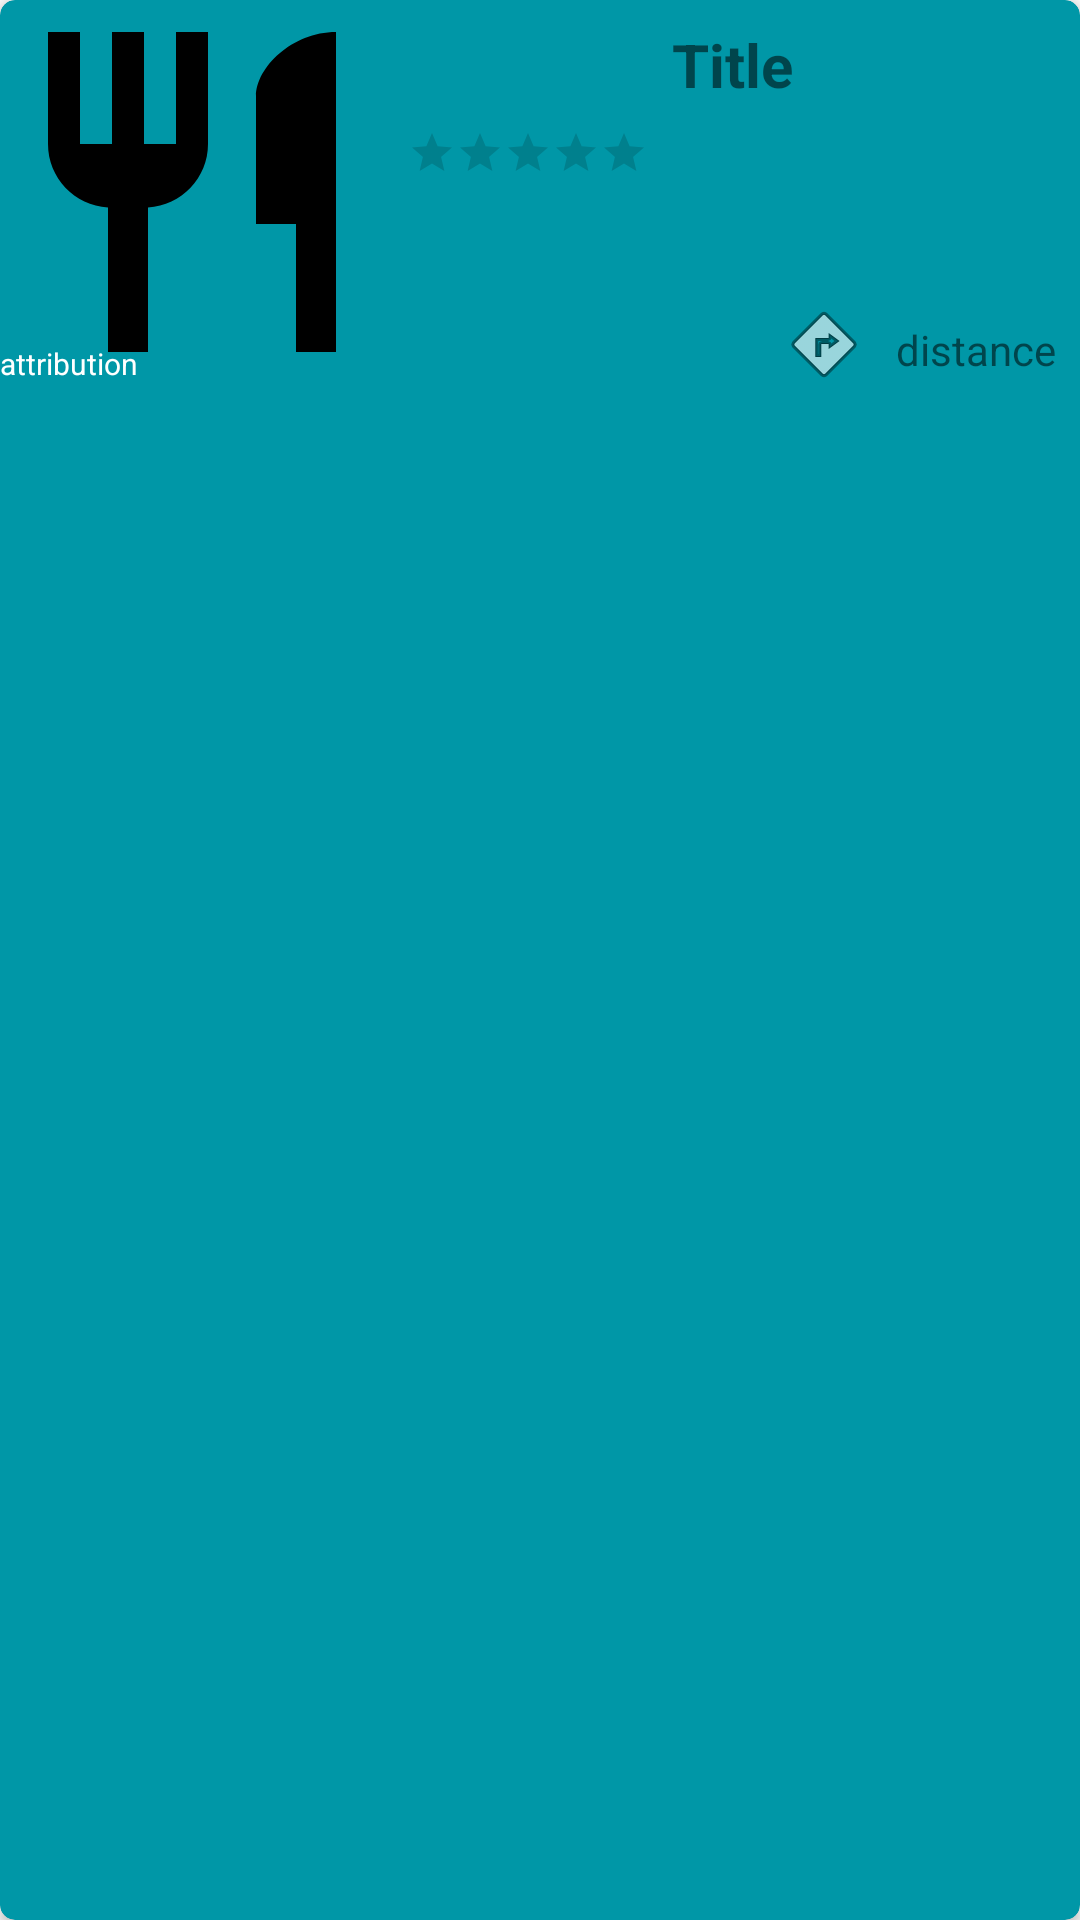

Icon bounding boxes for this 1080x1920 phone screenshot, format (x1, y1, x2, y2):
directions: (791, 312, 857, 377)
